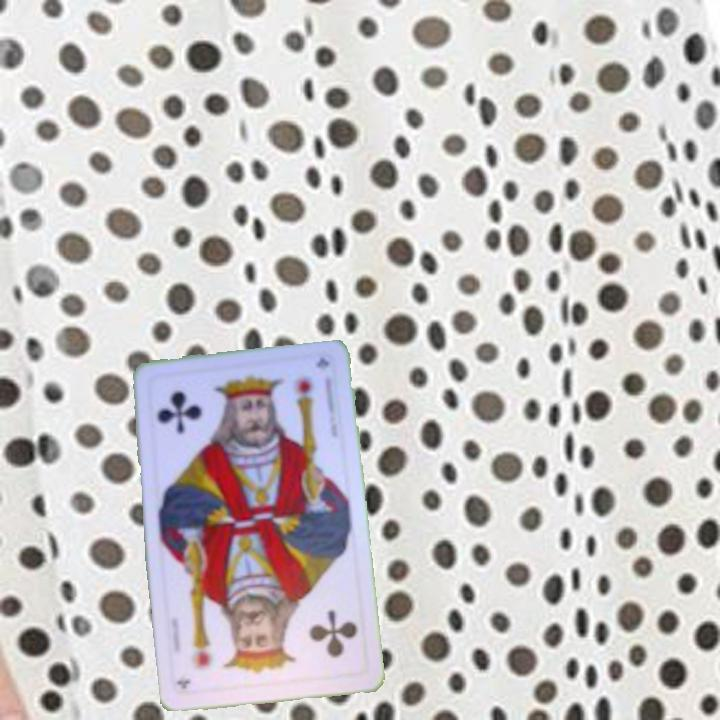c_k.png: (142, 365, 250, 461), (260, 590, 368, 686)
